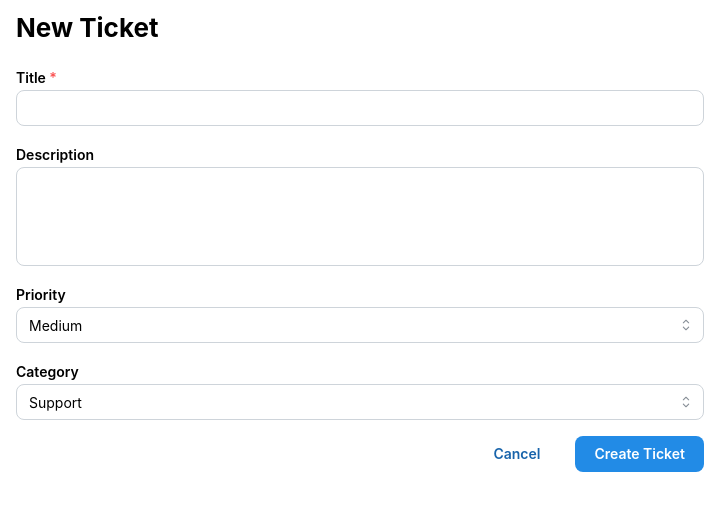
CreateTicketPage › shows error message when createTicket fails
Step 1. Type "Bad ticket" into the field labelled "Title *" → (360,108), box [16,90,704,126]
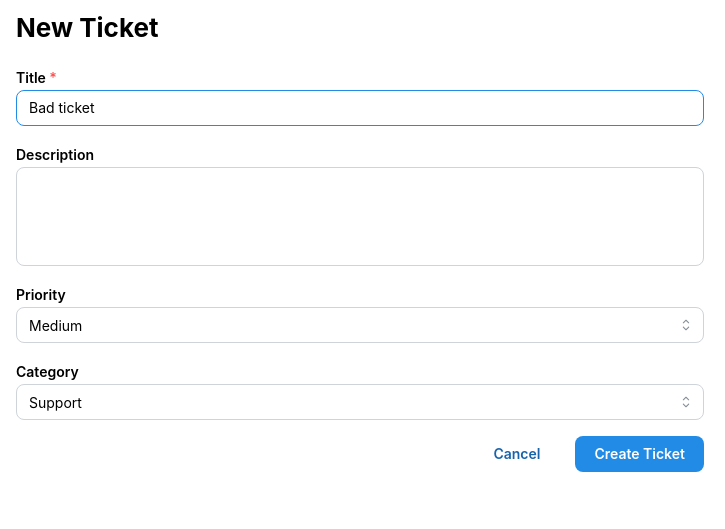
Step 2. Click the button "Create Ticket" → (640,454), box [575,436,704,472]
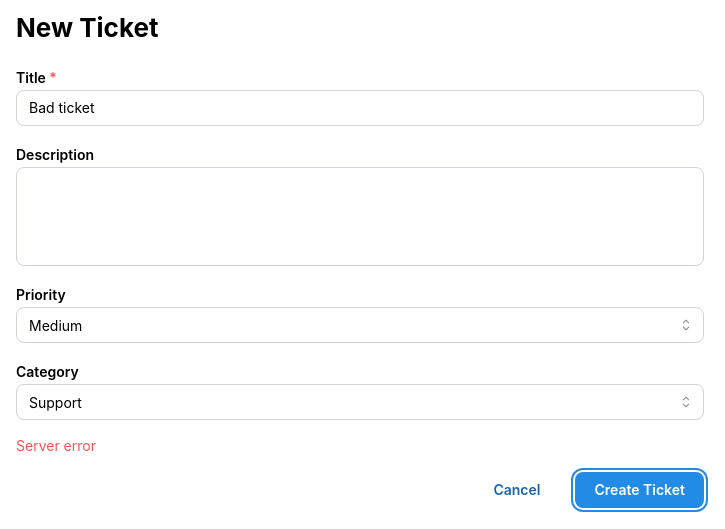
expect the text "Server error" is shown: met, box [16,437,96,454]
